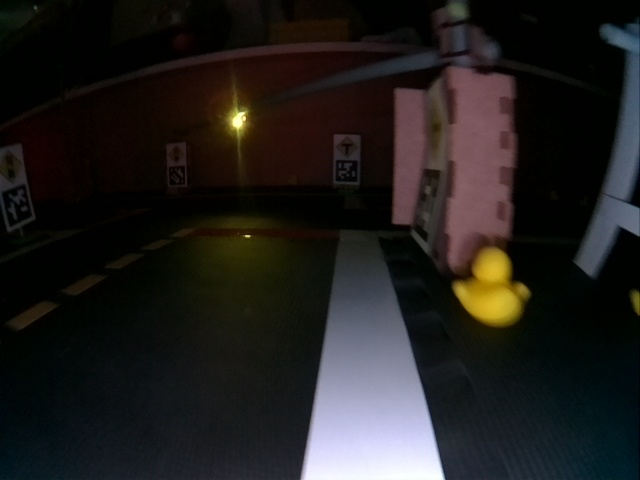Duckie: (453, 248, 527, 327)
Intersection sign: (336, 136, 359, 157)
QR code: (411, 168, 442, 242), (3, 185, 35, 229), (335, 159, 357, 183), (167, 167, 186, 186)
Signal sign: (1, 150, 24, 185), (167, 145, 184, 164)
Traffic light: (232, 109, 247, 127)
